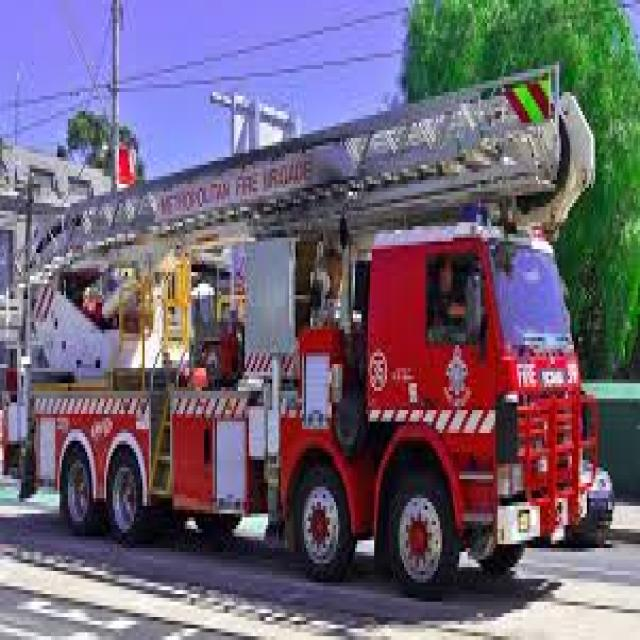Fire_brigade: (15, 58, 614, 610)
